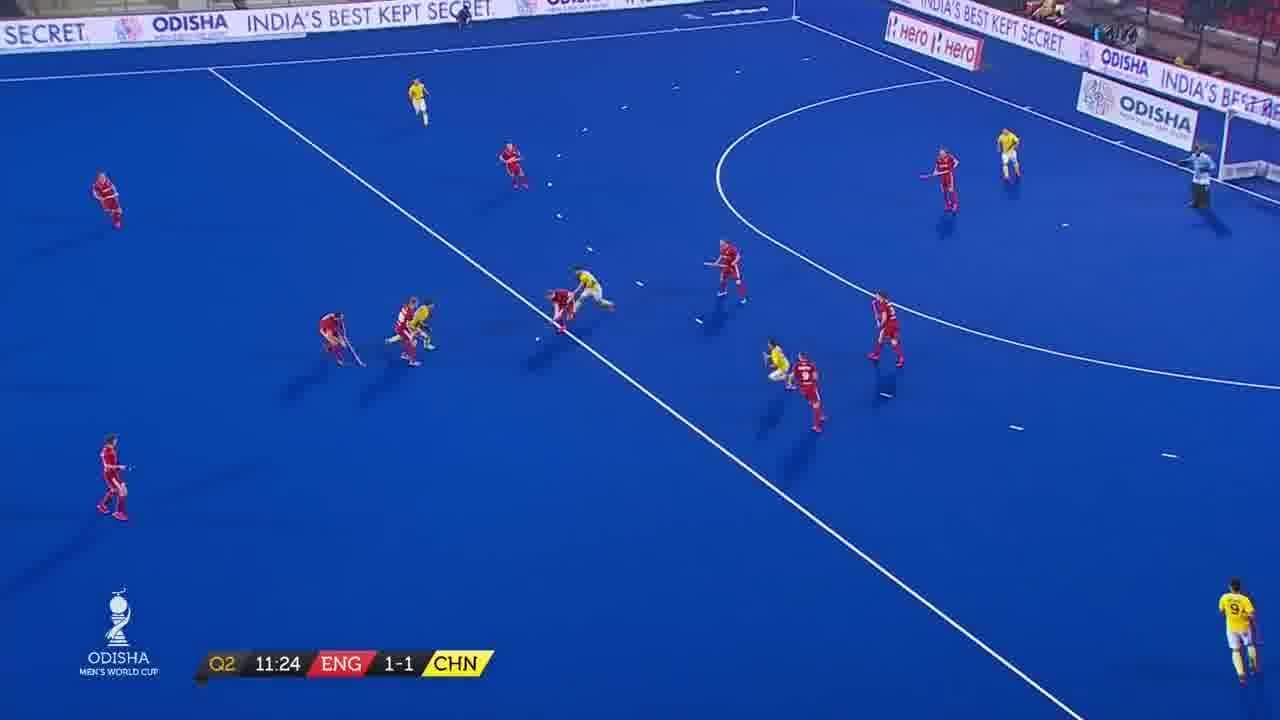ball: (532, 334, 542, 345)
